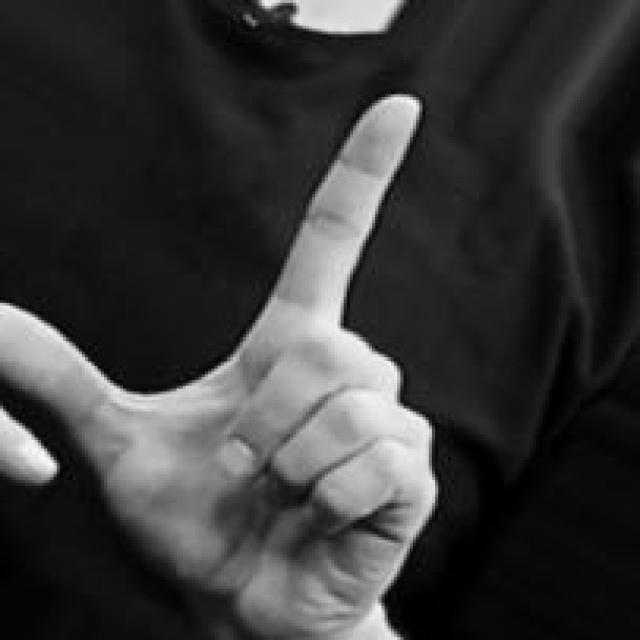L: (3, 80, 445, 640)
